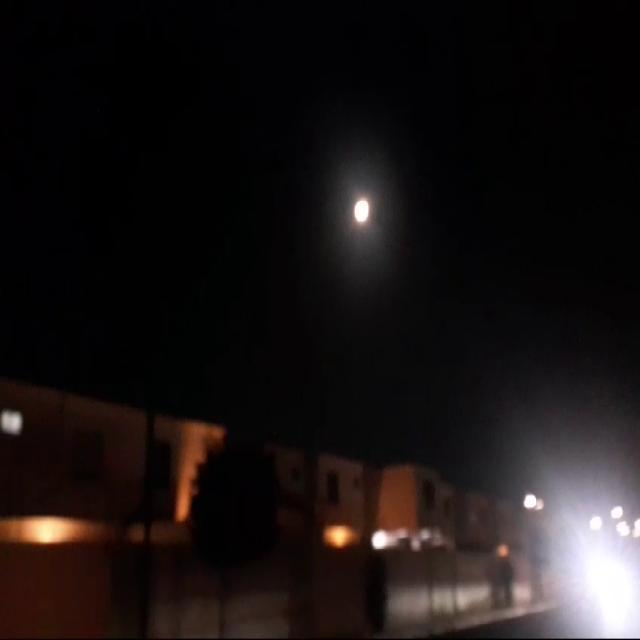moon: (351, 197, 370, 231)
